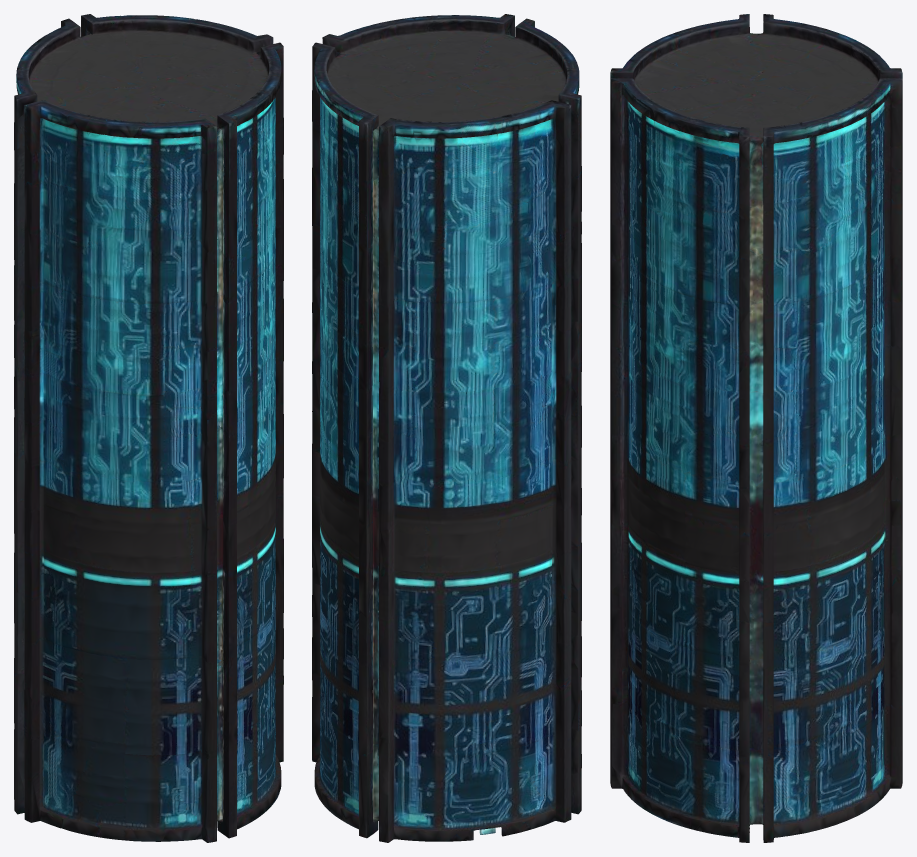
File: tower_blue_simplified.glb
3 views of the same model, side by side, from view 1: azimuth 30°, elevation 25°; view 2: azimuth 150°, elevation 25°; view 3: azimuth 270°, elevation 25° (orthographic).
Size of the model in its own units: 0.7121 by 1.9 by 0.7129.
Materials: 1 (1 with a texture image).
